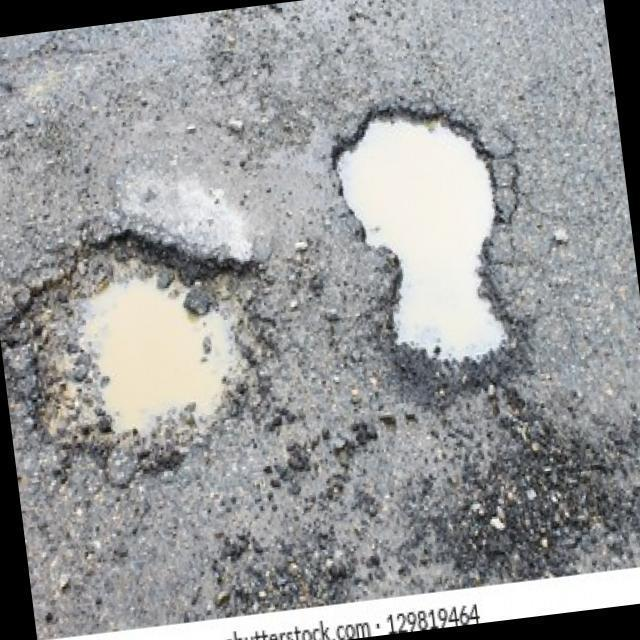pothole: (0, 208, 288, 498), (320, 81, 538, 406)
